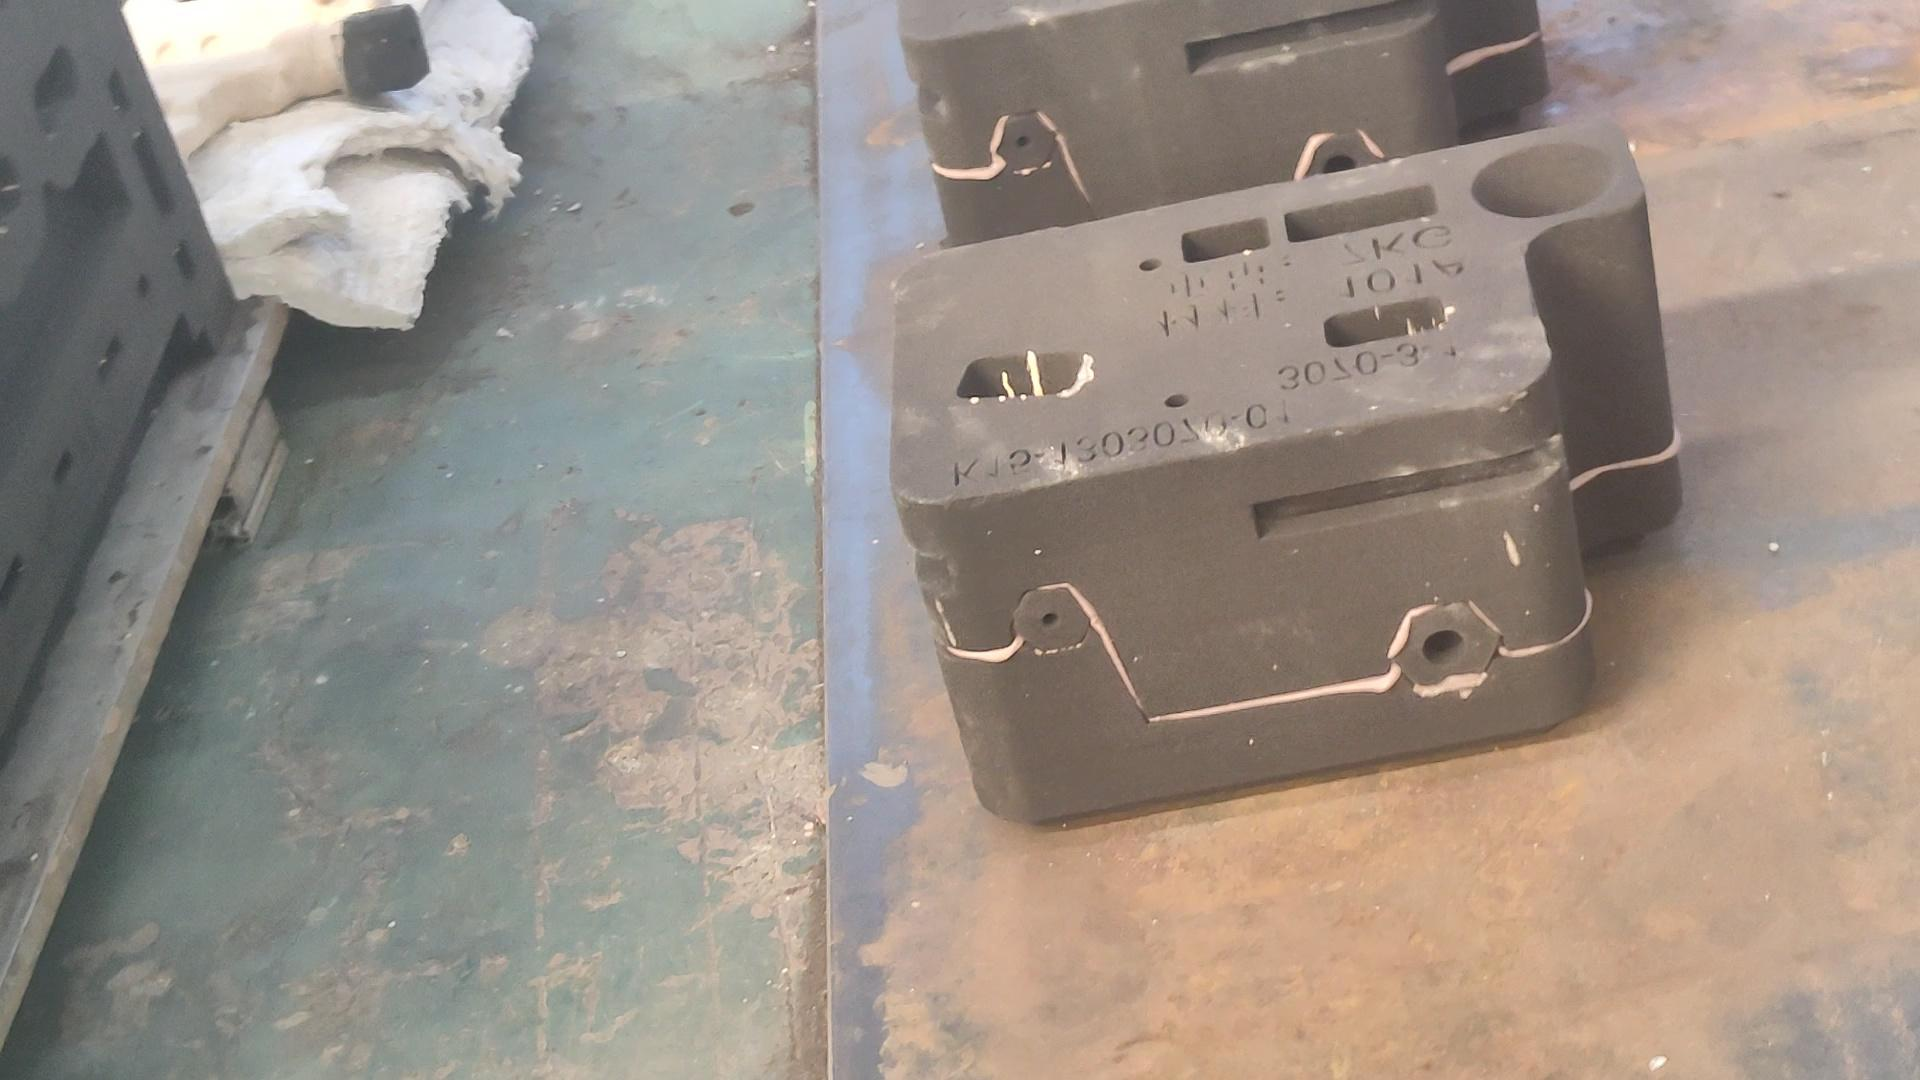pouring hole: (1469, 141, 1613, 219)
